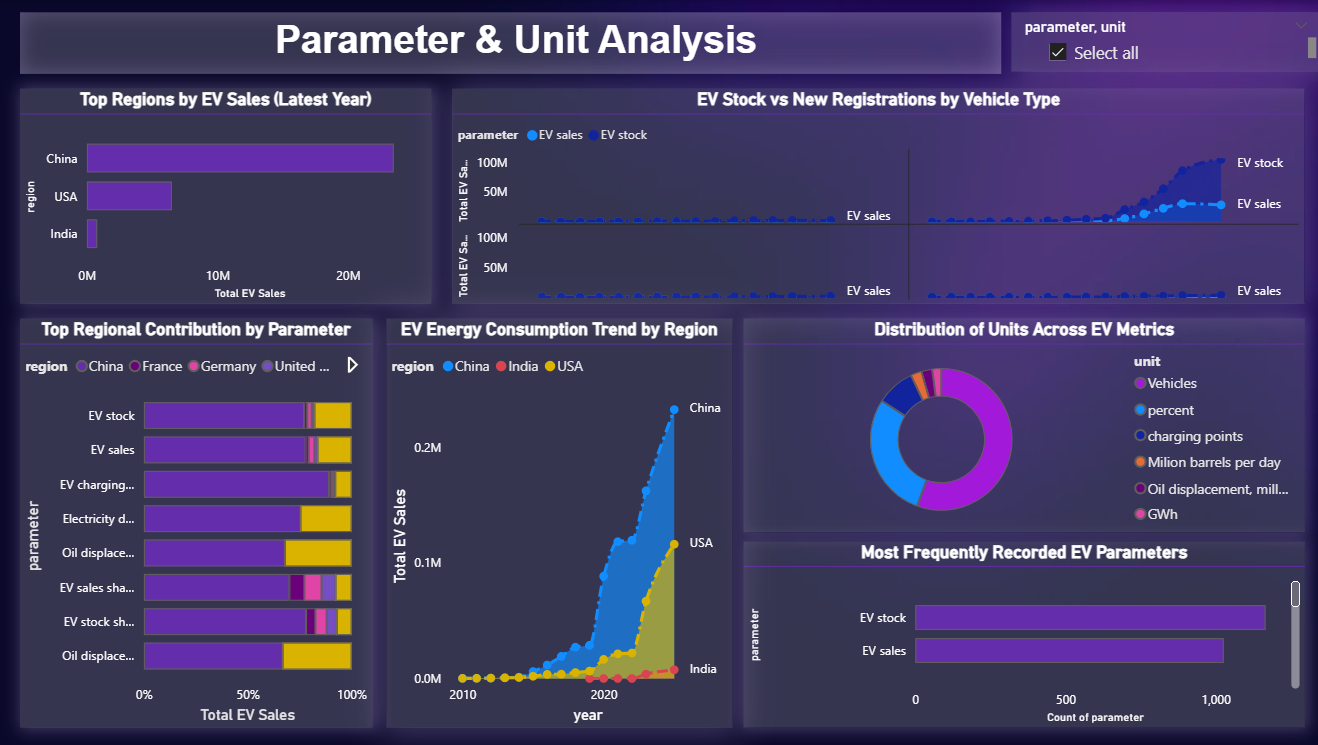

What the dashboard file says about the page in this screenshot:
{"tool":"powerbi","page":{"name":"Parameter Analysis","canvas":[1280,720],"ordinal":2},"visuals":[{"type":"lineChart","title":"EV Stock vs New Registrations by Vehicle Type","fields":{"Category":["IEA Global EV Data 2024.year"],"Y":["IEA Global EV Data 2024.Total EV Sales"],"Series":["IEA Global EV Data 2024.parameter"],"Rows":["IEA Global EV Data 2024.mode"]},"box":[441.6,85.7,822.8,207.5],"z":0},{"type":"donutChart","title":"Distribution of Units Across EV Metrics","fields":{"Category":["IEA Global EV Data 2024.unit"],"Y":["CountNonNull(IEA Global EV Data 2024.unit)"]},"box":[722.7,307.6,541.7,206.3],"z":1000},{"type":"barChart","title":"Most Frequently Recorded EV Parameters","fields":{"Category":["IEA Global EV Data 2024.parameter"],"Y":["CountNonNull(IEA Global EV Data 2024.parameter)"]},"box":[722.7,522.4,541.7,179.8],"z":2000},{"type":"hundredPercentStackedBarChart","title":"Top Regional Contribution by Parameter","fields":{"Category":["IEA Global EV Data 2024.parameter"],"Y":["IEA Global EV Data 2024.Total EV Sales"],"Series":["IEA Global EV Data 2024.region"]},"box":[24.1,307.6,340.2,394.5],"z":3000},{"type":"textbox","box":[24.1,12.1,947.1,59.1],"z":4000},{"type":"lineChart","title":"EV Energy Consumption Trend by Region","fields":{"Category":["IEA Global EV Data 2024.year"],"Y":["IEA Global EV Data 2024.Total EV Sales"],"Series":["IEA Global EV Data 2024.region"]},"box":[377.6,307.6,334.2,394.5],"z":5000},{"type":"barChart","title":"Top Regions by EV Sales (Latest Year)","fields":{"Category":["IEA Global EV Data 2024.region"],"Y":["IEA Global EV Data 2024.Total EV Sales"]},"box":[24.1,85.7,396.9,207.5],"z":6000},{"type":"slicer","fields":{"Values":["IEA Global EV Data 2024.parameter","IEA Global EV Data 2024.unit"]},"box":[980.8,12.1,299.2,56.7],"z":7000}]}

Visuals, with their boxes in screenshot pixels (x1, y1, x2, y2), scaled from the page's 1280x720 canvas onto the 1318x745 screenshot:
"EV Stock vs New Registrations by Vehicle Type" lineChart: <bbox>455, 89, 1302, 303</bbox>
"Distribution of Units Across EV Metrics" donutChart: <bbox>744, 318, 1302, 532</bbox>
"Most Frequently Recorded EV Parameters" barChart: <bbox>744, 541, 1302, 727</bbox>
"Top Regional Contribution by Parameter" hundredPercentStackedBarChart: <bbox>25, 318, 375, 726</bbox>
textbox: <bbox>25, 13, 1000, 74</bbox>
"EV Energy Consumption Trend by Region" lineChart: <bbox>389, 318, 733, 726</bbox>
"Top Regions by EV Sales (Latest Year)" barChart: <bbox>25, 89, 433, 303</bbox>
slicer - IEA Global EV Data 2024.parameter x IEA Global EV Data 2024.unit: <bbox>1010, 13, 1317, 71</bbox>
